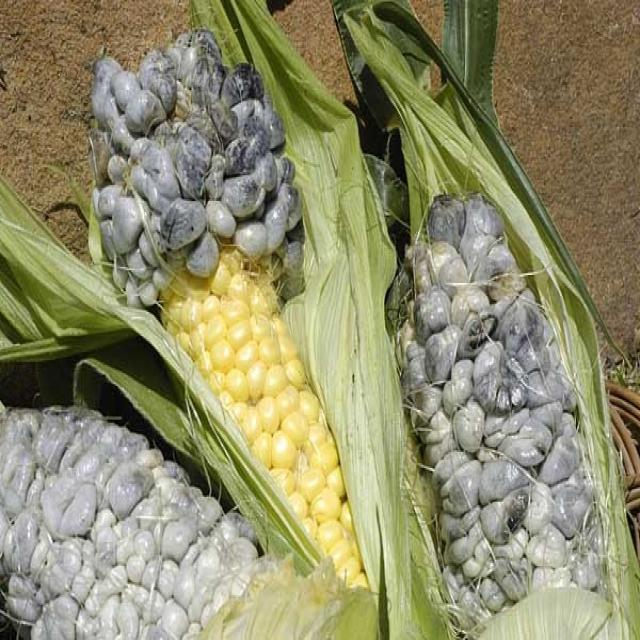Leaf_Scald: (375, 136, 639, 640), (43, 0, 336, 312), (1, 347, 296, 640)
